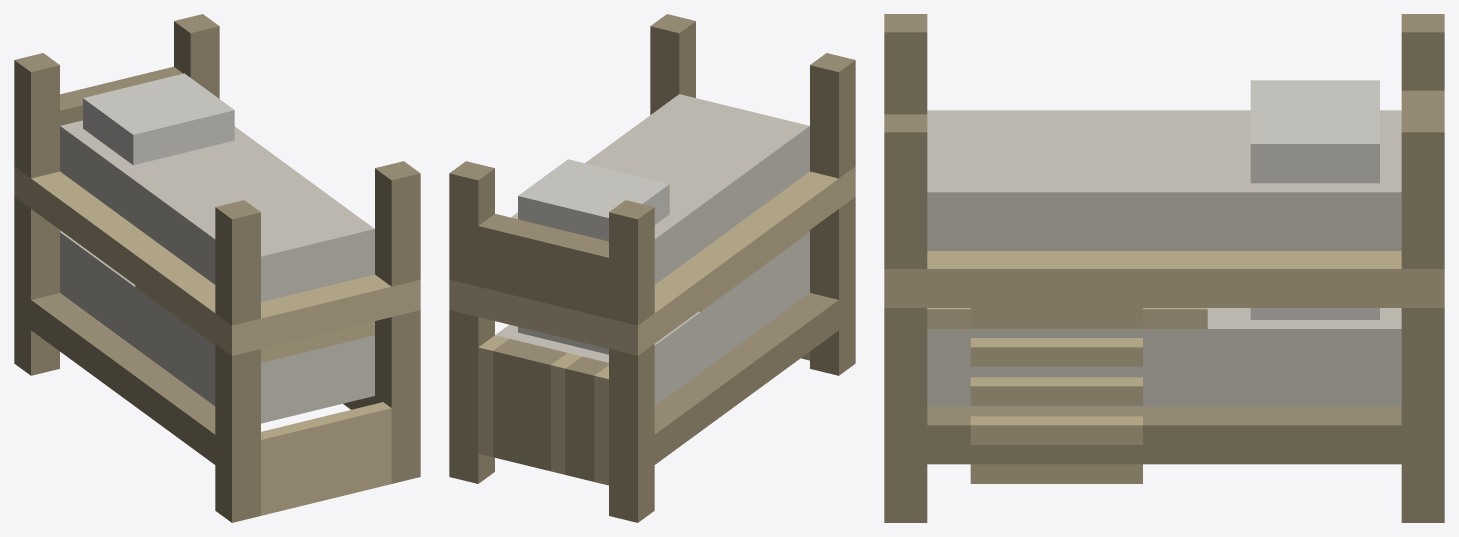
The model's file is litera_marinero_arce_01.glb.
3 views of the same model, side by side, from view 1: azimuth 30°, elevation 25°; view 2: azimuth 150°, elevation 25°; view 3: azimuth 270°, elevation 25° (orthographic). The views are drawn at different scales.
Visible parts, largest first — view 1: litera_marinero_arce; view 2: litera_marinero_arce; view 3: litera_marinero_arce.
Part boxes in pixels (x1,y1,x2,y2): litera_marinero_arce: [14, 14, 420, 522]; litera_marinero_arce: [449, 14, 855, 522]; litera_marinero_arce: [884, 14, 1444, 522].
Bounding box in the file's own units: 1 × 1.54 × 2.
